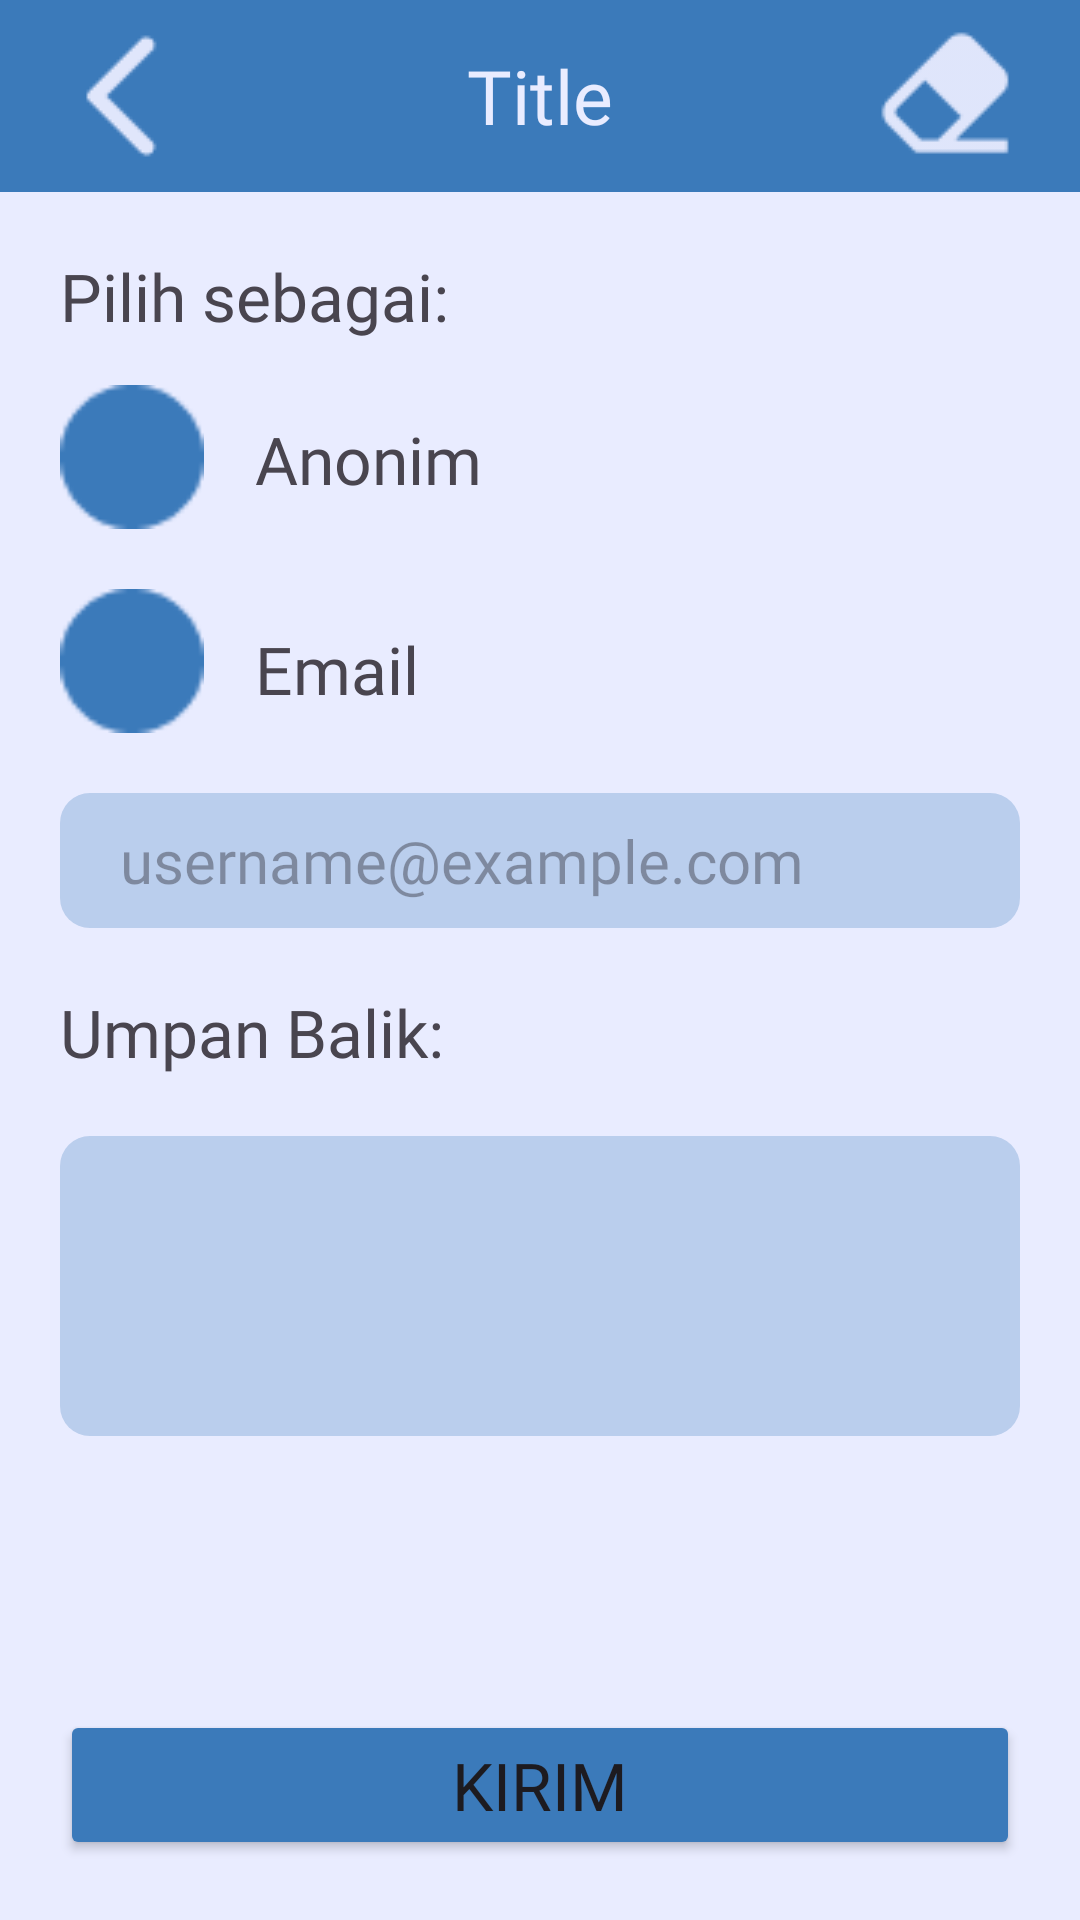

Icons on this 1080×1920 Android screen, each with its box as rect(x1, y1, x2, y2):
back: rect(86, 35, 156, 157)
clear: rect(881, 32, 1009, 154)
